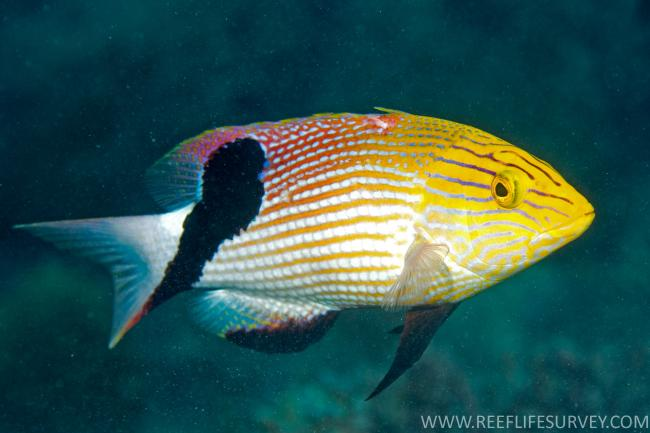fish: (14, 105, 595, 403)
